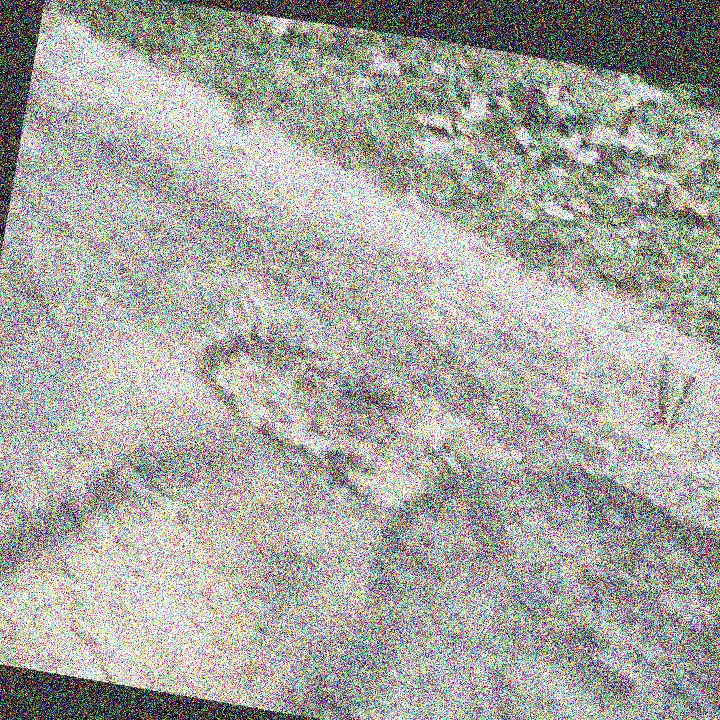pothole: (172, 312, 473, 523)
